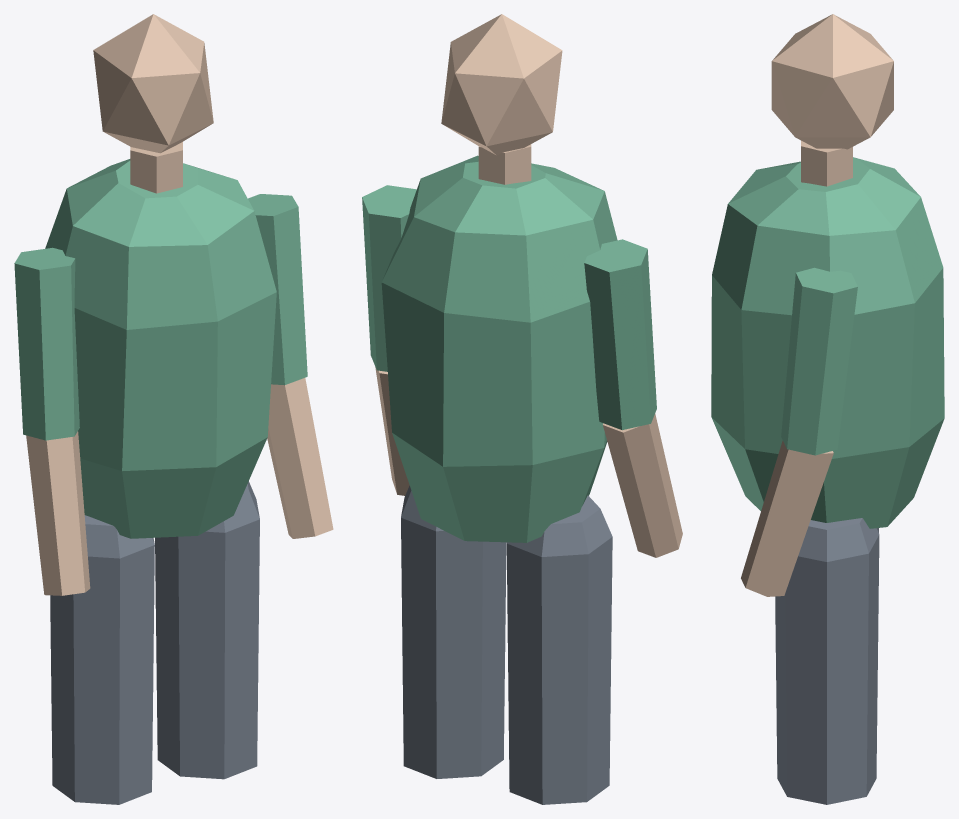
The model's file is boystand.glb.
The picture shows the model from 3 angles, left to right: view 1: azimuth 30°, elevation 25°; view 2: azimuth 150°, elevation 25°; view 3: azimuth 270°, elevation 25°; orthographic projection. The views are drawn at different scales.
Visible parts, largest first — view 1: BoyStand_torso, BoyStand_thigh.001, BoyStand_thigh, BoyStand_head, BoyStand_uarm, BoyStand_larm, BoyStand_larm.001, BoyStand_uarm.001, BoyStand_neck; view 2: BoyStand_torso, BoyStand_thigh, BoyStand_thigh.001, BoyStand_head, BoyStand_uarm, BoyStand_larm, BoyStand_uarm.001, BoyStand_neck, BoyStand_larm.001; view 3: BoyStand_torso, BoyStand_thigh.001, BoyStand_head, BoyStand_uarm.001, BoyStand_larm.001, BoyStand_neck.
Boxes of the visible parts, x1,y1,x2,y2 form: BoyStand_torso: [45, 159, 276, 538]; BoyStand_thigh.001: [155, 481, 259, 779]; BoyStand_thigh: [50, 515, 154, 804]; BoyStand_head: [93, 14, 213, 153]; BoyStand_uarm: [14, 247, 79, 440]; BoyStand_larm: [26, 431, 90, 595]; BoyStand_larm.001: [267, 378, 333, 538]; BoyStand_uarm.001: [248, 194, 307, 385]; BoyStand_neck: [130, 142, 182, 193]; BoyStand_torso: [381, 155, 617, 542]; BoyStand_thigh: [506, 495, 612, 804]; BoyStand_thigh.001: [401, 485, 506, 778]; BoyStand_head: [441, 14, 562, 155]; BoyStand_uarm: [584, 239, 656, 430]; BoyStand_larm: [603, 413, 682, 557]; BoyStand_uarm.001: [362, 185, 416, 371]; BoyStand_neck: [478, 144, 531, 184]; BoyStand_larm.001: [375, 367, 409, 495]; BoyStand_torso: [711, 157, 944, 528]; BoyStand_thigh.001: [775, 518, 879, 804]; BoyStand_head: [771, 14, 893, 149]; BoyStand_uarm.001: [781, 267, 857, 455]; BoyStand_larm.001: [741, 440, 833, 596]; BoyStand_neck: [801, 140, 852, 186].
Size of the model in its own units: 0.4607 by 1.17 by 0.3314.
